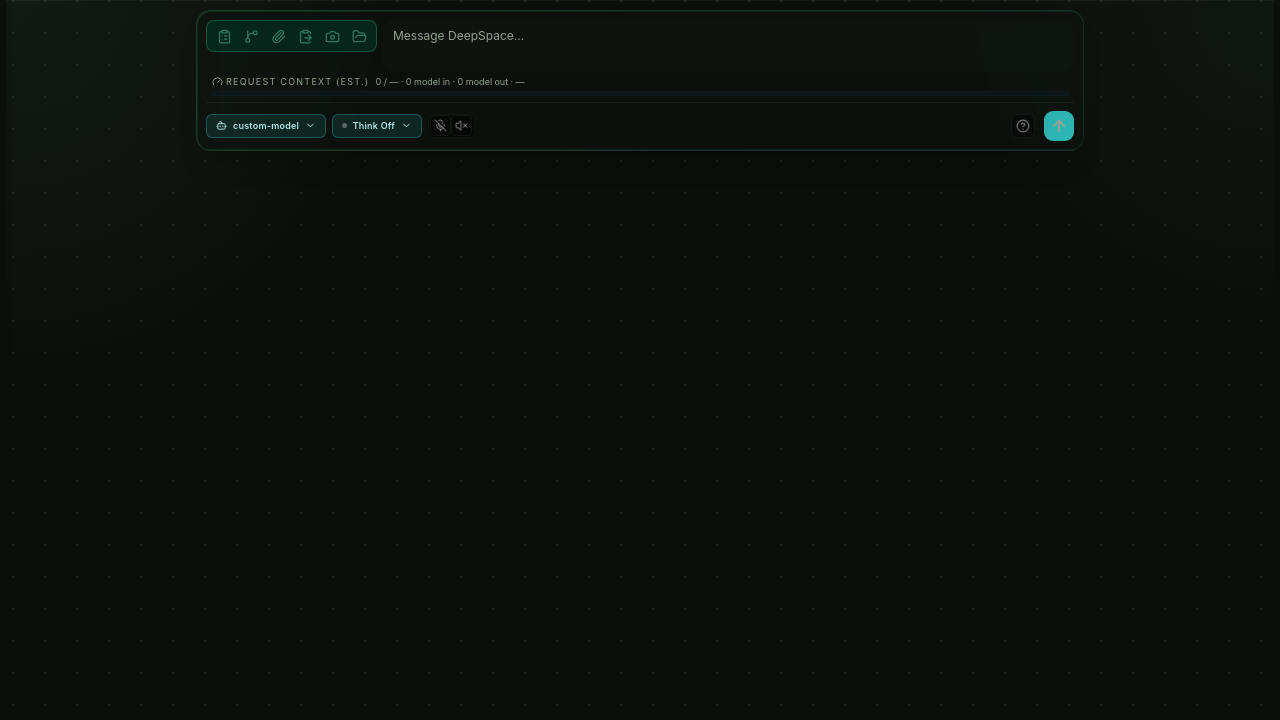
Test: custom provider reasoning options › shows Off and On for an endpoint configured with a thinking toggle only
Click the button with aria-label "Choose reasoning effort" at (377, 126), box [332,114,422,138]
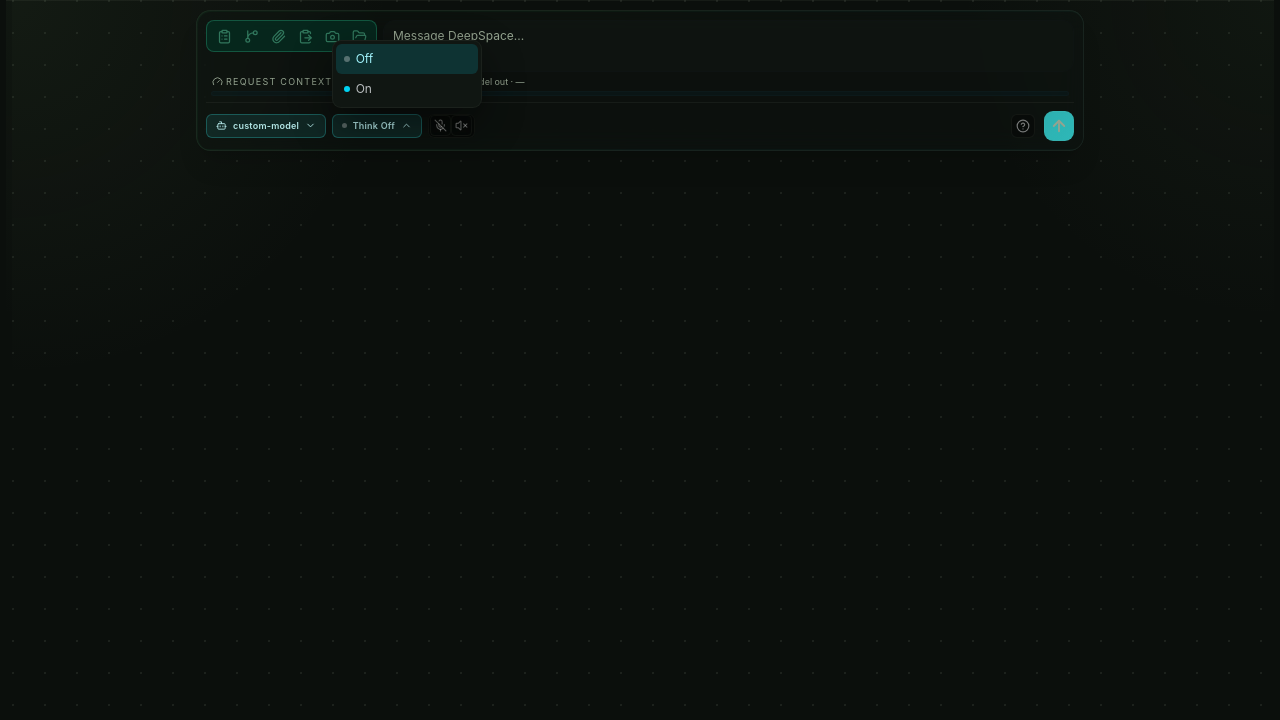
Check: the button "Off" is shown, box [336,44,478,74]
Check: the button "On" is shown, box [336,74,478,104]
